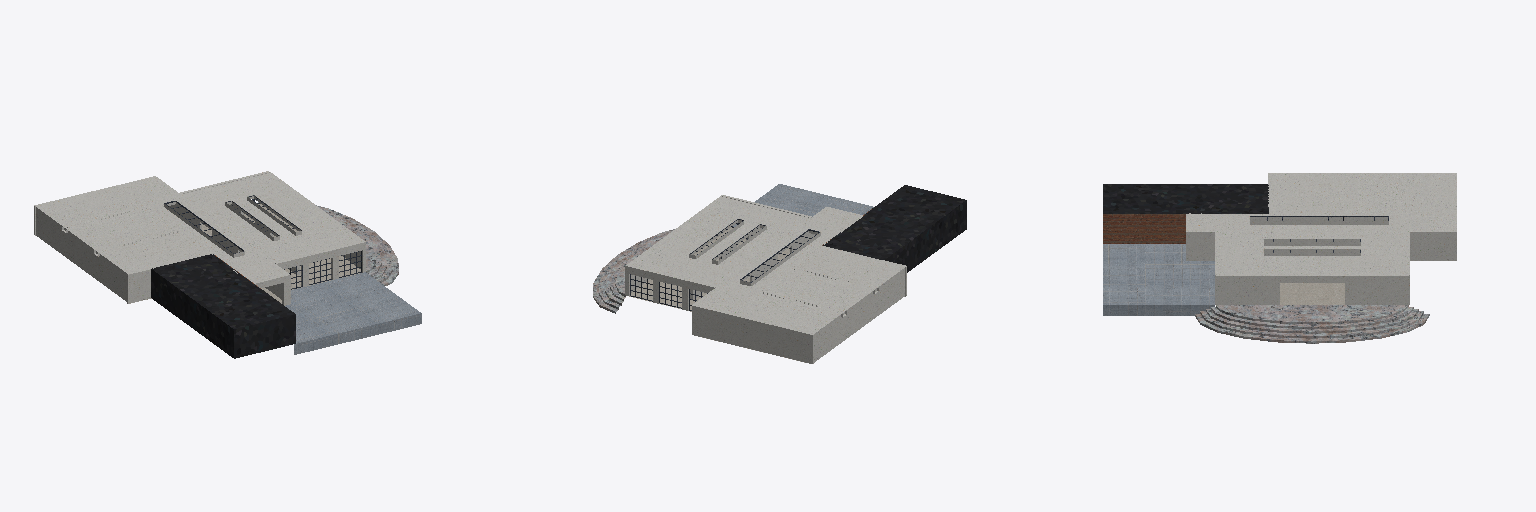
3 renders of one model, left to right at view 1: azimuth 30°, elevation 25°; view 2: azimuth 150°, elevation 25°; view 3: azimuth 270°, elevation 25°, orthographic.
Visible parts, largest first — view 1: Original VR_Walls_geo VideoRoom_grp, Original GR_Ceiling_geo GalleryRoom_grp, Original MainRoom_grp MR_Ceiling_geo, O_patio_geo Original, Original HallWay_grp HW_Ceiling_geo, Original GalleryRoom_grp GR_BackWall_geo, Original O_Stairs_geo, Original MainRoom_grp MR_SideWall_geo MR_SideWall_geo1, Original MR_Floor_geo MainRoom_grp, Original GalleryRoom_grp GR_SideWall2_geo, Original HallWay_grp HW_FrontWall_geo; view 2: Original GR_Ceiling_geo GalleryRoom_grp, Original VR_Walls_geo VideoRoom_grp, Original MainRoom_grp MR_Ceiling_geo, Original HallWay_grp HW_Ceiling_geo, Original GalleryRoom_grp GR_SideWall_geo, Original GalleryRoom_grp GR_BackWall_geo, Original O_Stairs_geo, O_patio_geo Original, Original MainRoom_grp MR_SideWall_geo MR_SideWall_geo1, Original MR_Floor_geo MainRoom_grp; view 3: Original GR_Ceiling_geo GalleryRoom_grp, O_patio_geo Original, Original VR_Walls_geo VideoRoom_grp, Original O_Stairs_geo, Original MainRoom_grp MR_Ceiling_geo, Original MainRoom_grp MR_FrontWall_geo, Original HallWay_grp HW_Ceiling_geo, Original HallWay_grp HW_FrontWall_geo, Original MR_Floor_geo MainRoom_grp, Original MainRoom_grp MR_supportbeam2_geo.
Boxes of the visible parts, box(x1,y1,x2,y2) form: Original VR_Walls_geo VideoRoom_grp: box(151, 254, 295, 358); Original GR_Ceiling_geo GalleryRoom_grp: box(34, 185, 209, 274); Original MainRoom_grp MR_Ceiling_geo: box(184, 173, 358, 262); O_patio_geo Original: box(285, 272, 421, 354); Original HallWay_grp HW_Ceiling_geo: box(121, 177, 287, 282); Original GalleryRoom_grp GR_BackWall_geo: box(36, 207, 126, 301); Original O_Stairs_geo: box(258, 202, 398, 285); Original MainRoom_grp MR_SideWall_geo MR_SideWall_geo1: box(180, 171, 365, 286); Original MR_Floor_geo MainRoom_grp: box(202, 204, 360, 289); Original GalleryRoom_grp GR_SideWall2_geo: box(127, 253, 209, 303); Original HallWay_grp HW_FrontWall_geo: box(156, 177, 290, 304); Original GR_Ceiling_geo GalleryRoom_grp: box(730, 247, 905, 334); Original VR_Walls_geo VideoRoom_grp: box(822, 185, 966, 272); Original MainRoom_grp MR_Ceiling_geo: box(628, 197, 807, 284); Original HallWay_grp HW_Ceiling_geo: box(694, 207, 862, 313); Original GalleryRoom_grp GR_SideWall_geo: box(692, 305, 813, 363); Original GalleryRoom_grp GR_BackWall_geo: box(814, 268, 904, 362); Original O_Stairs_geo: box(593, 229, 674, 313); O_patio_geo Original: box(733, 184, 873, 226); Original MainRoom_grp MR_SideWall_geo MR_SideWall_geo1: box(626, 195, 811, 310); Original MR_Floor_geo MainRoom_grp: box(629, 227, 789, 311); Original GR_Ceiling_geo GalleryRoom_grp: box(1268, 173, 1456, 212); O_patio_geo Original: box(1103, 244, 1214, 315); Original VR_Walls_geo VideoRoom_grp: box(1103, 184, 1268, 243); Original O_Stairs_geo: box(1195, 305, 1429, 343); Original MainRoom_grp MR_Ceiling_geo: box(1219, 234, 1405, 274); Original MainRoom_grp MR_FrontWall_geo: box(1216, 275, 1408, 304); Original HallWay_grp HW_Ceiling_geo: box(1187, 214, 1453, 230); Original HallWay_grp HW_FrontWall_geo: box(1186, 231, 1453, 260); Original MR_Floor_geo MainRoom_grp: box(1280, 283, 1344, 304); Original MainRoom_grp MR_supportbeam2_geo: box(1219, 231, 1405, 233).
Bounding box in the file's own units: 3189 × 502 × 3637.
1 materials, 1 textured.